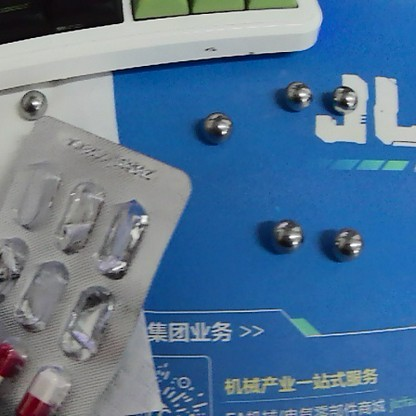ironball: (267, 211, 306, 254), (332, 225, 370, 264), (282, 77, 317, 113), (200, 106, 233, 144), (327, 82, 363, 116), (14, 87, 52, 119)
